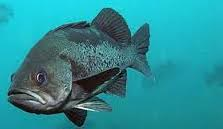mebaru: (3, 2, 158, 125)
